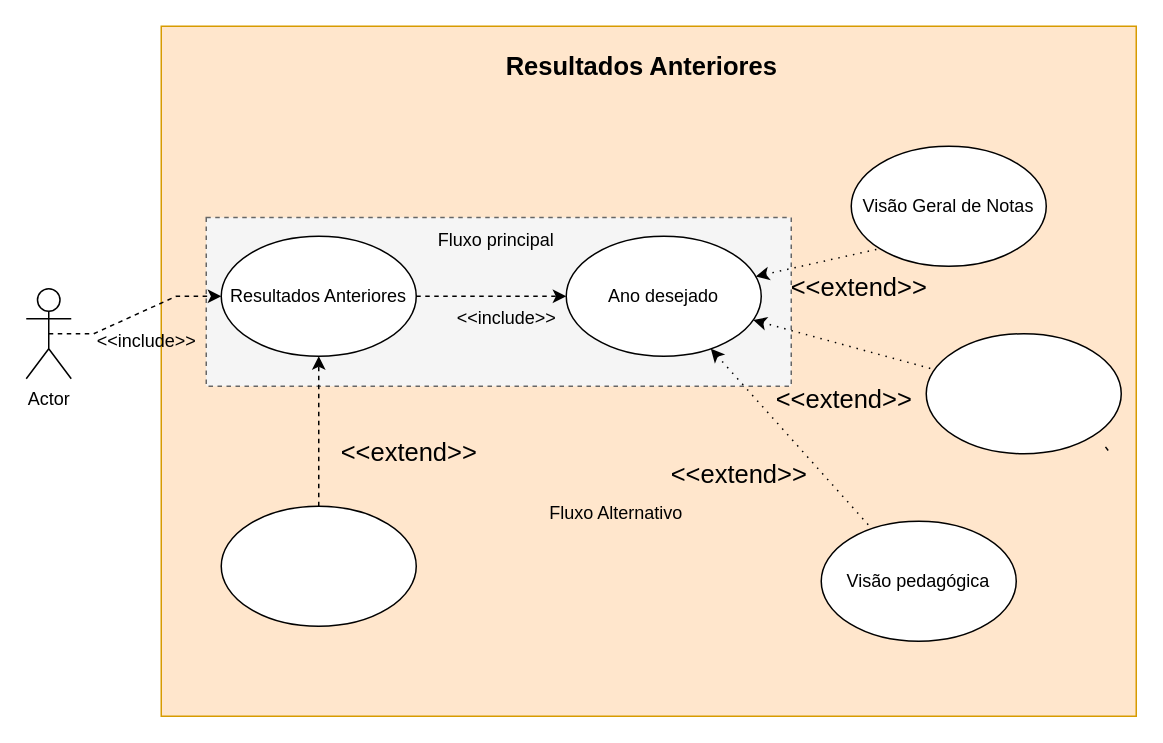
The diagram is 1163 pixels wide and 743 high, and some of its shapes have lost their labels. Here are the shapes that lost their labels. From the top down, the centre of each, then its label:
At point 1023,393: "Baixar Redação".
At point 318,565: "Não há registros".
